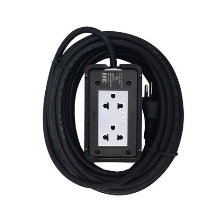three_eye_plug: (81, 60, 144, 163)
